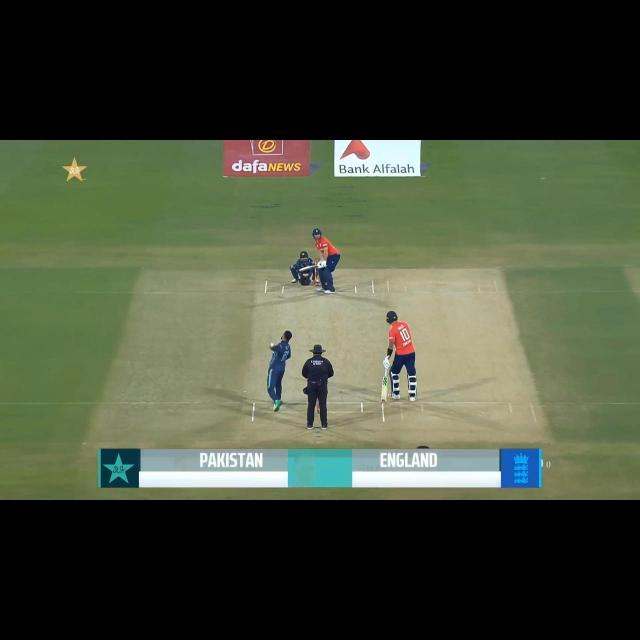bat: (380, 377, 390, 403), (299, 265, 319, 273)
toe: (380, 397, 389, 404), (298, 266, 302, 273)
